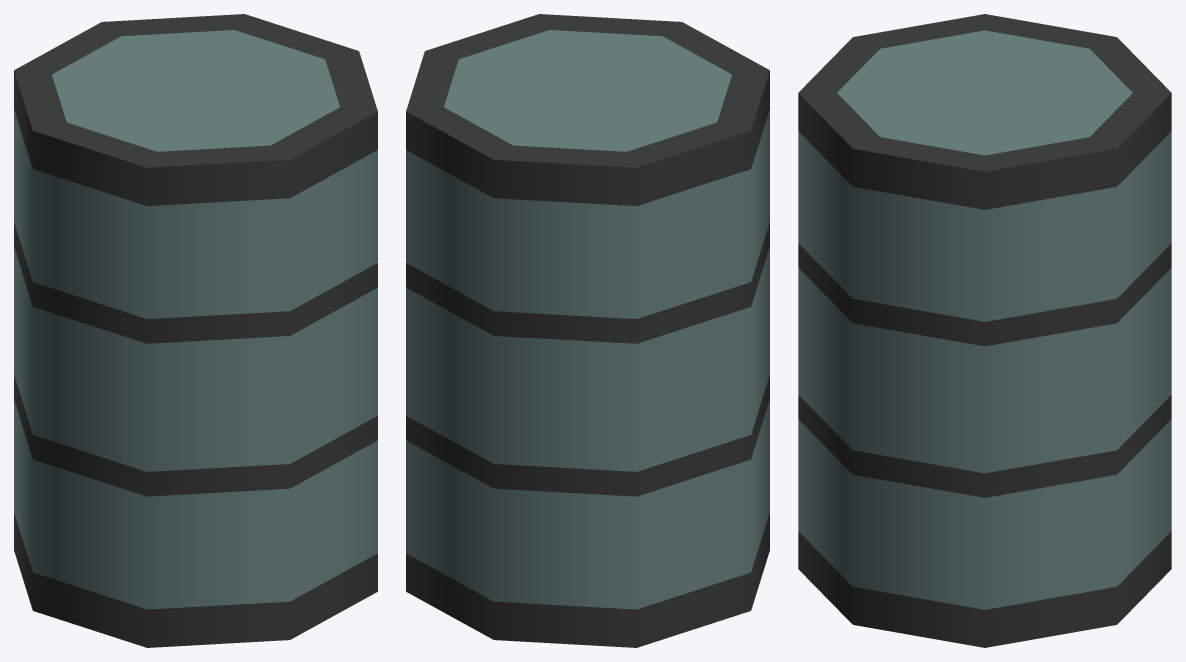
Rendered from barrel3.FBX.
3 views of the same model, side by side, from view 1: azimuth 30°, elevation 25°; view 2: azimuth 150°, elevation 25°; view 3: azimuth 270°, elevation 25° (orthographic).
Visible parts, largest first — view 1: barrel3; view 2: barrel3; view 3: barrel3.
Part boxes in pixels (box(x1,y1,x2,y2)): barrel3: box(14, 14, 377, 647); barrel3: box(406, 14, 769, 647); barrel3: box(798, 14, 1171, 647).
Size of the model in its own units: 2.09 by 2.94 by 2.09.
